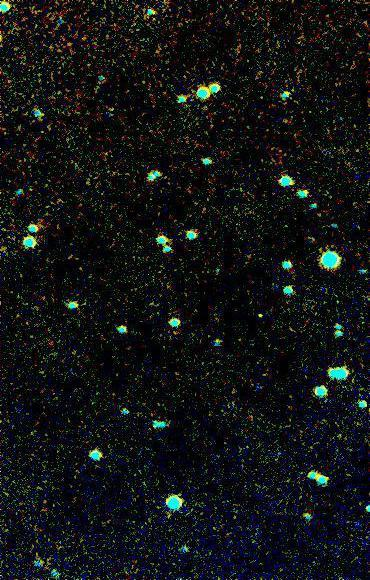star: (248, 305, 278, 335)
